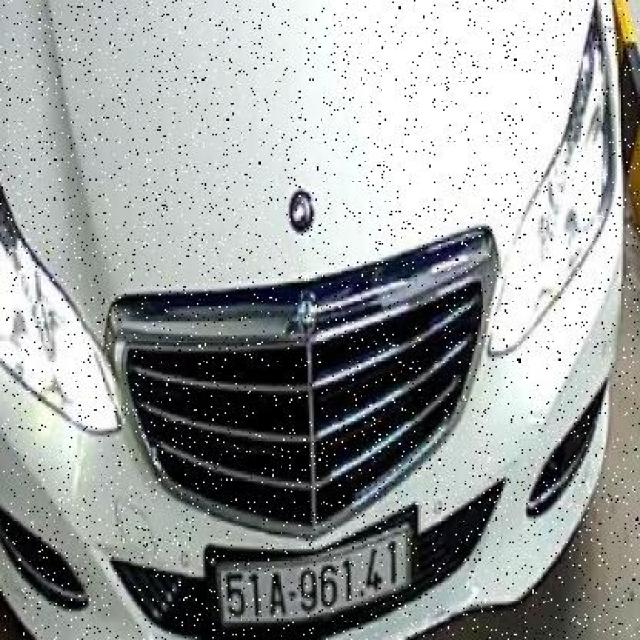number_plate: (209, 538, 422, 628)
